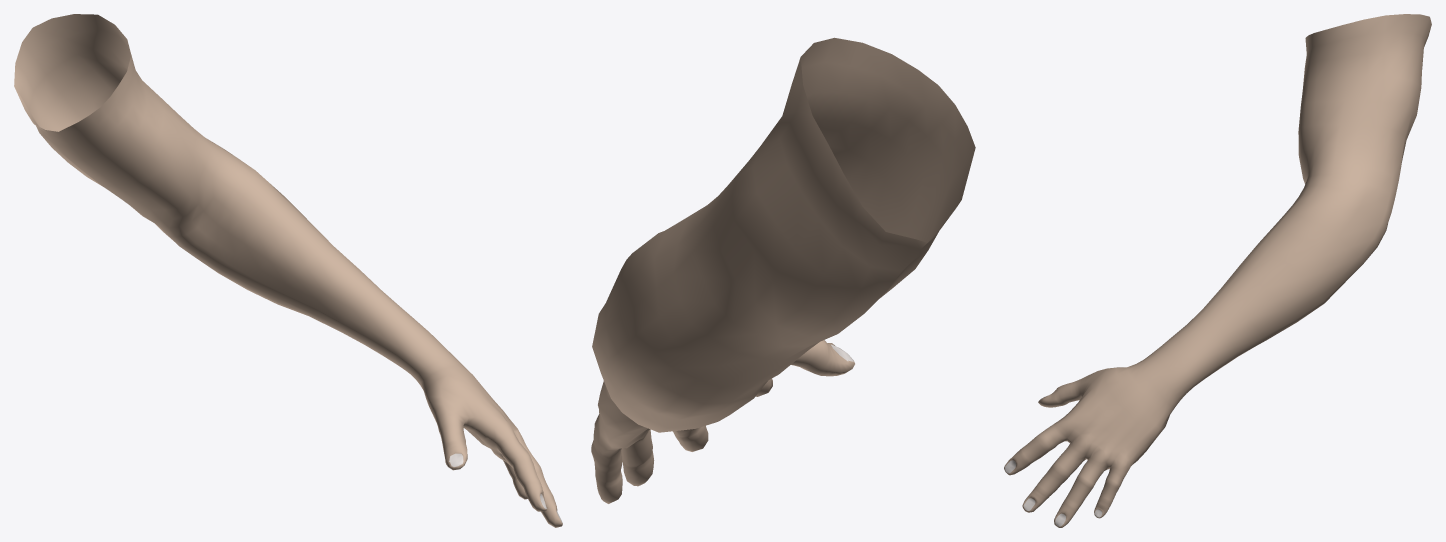
The model's file is fp_Arm.fbx.
The picture shows the model from 3 angles, left to right: view 1: azimuth 30°, elevation 25°; view 2: azimuth 150°, elevation 25°; view 3: azimuth 270°, elevation 25°; orthographic projection. The views are drawn at different scales.
Parts seen in each view (by area): view 1: basicRig:Body; view 2: basicRig:Body; view 3: basicRig:Body.
Part boxes in pixels (bbox=[...]): basicRig:Body: bbox=[14, 14, 562, 527]; basicRig:Body: bbox=[591, 37, 975, 503]; basicRig:Body: bbox=[1004, 14, 1431, 527].
Bounding box in the file's own units: 369 × 446 × 441.
